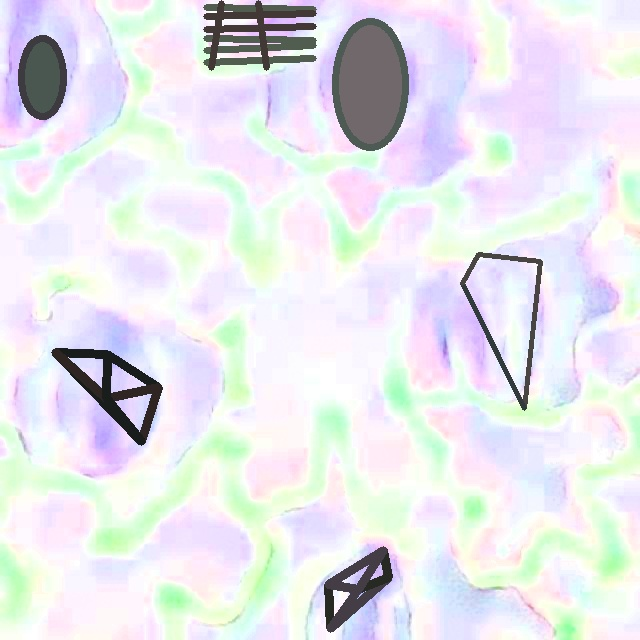open: (460, 253, 541, 410), (51, 350, 162, 445), (332, 18, 407, 149), (203, 0, 316, 70), (324, 547, 392, 631), (18, 35, 65, 119)
